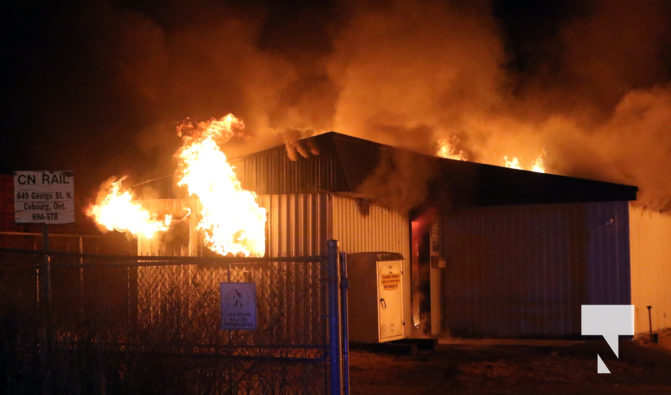fire: (97, 113, 267, 261), (436, 133, 572, 174)
smoke: (128, 2, 666, 123)
